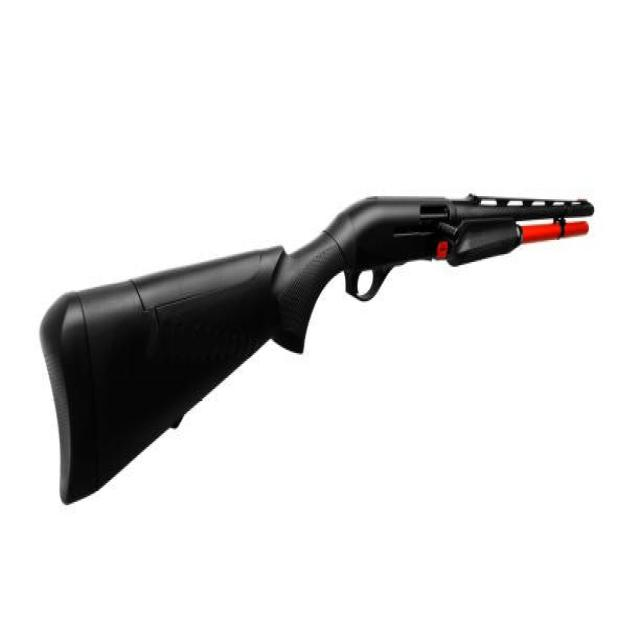rifle: (37, 185, 599, 516)
